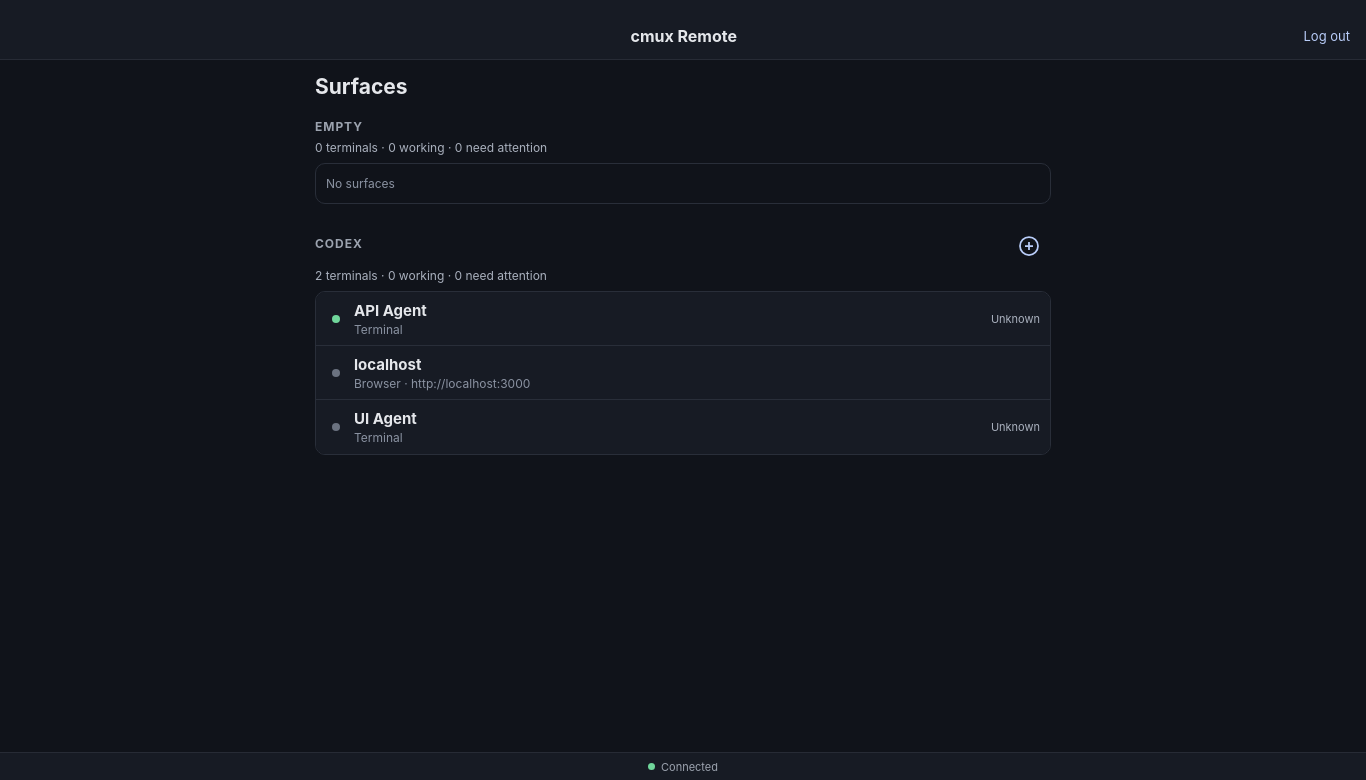
explains an outdated bridge and lets the user dismiss the notice without retrying creation
The width and height of the screenshot is (1366, 780).
Click the button named "New terminal in CODEX": {"x": 1029, "y": 246} x1=1007 y1=224 x2=1051 y2=268
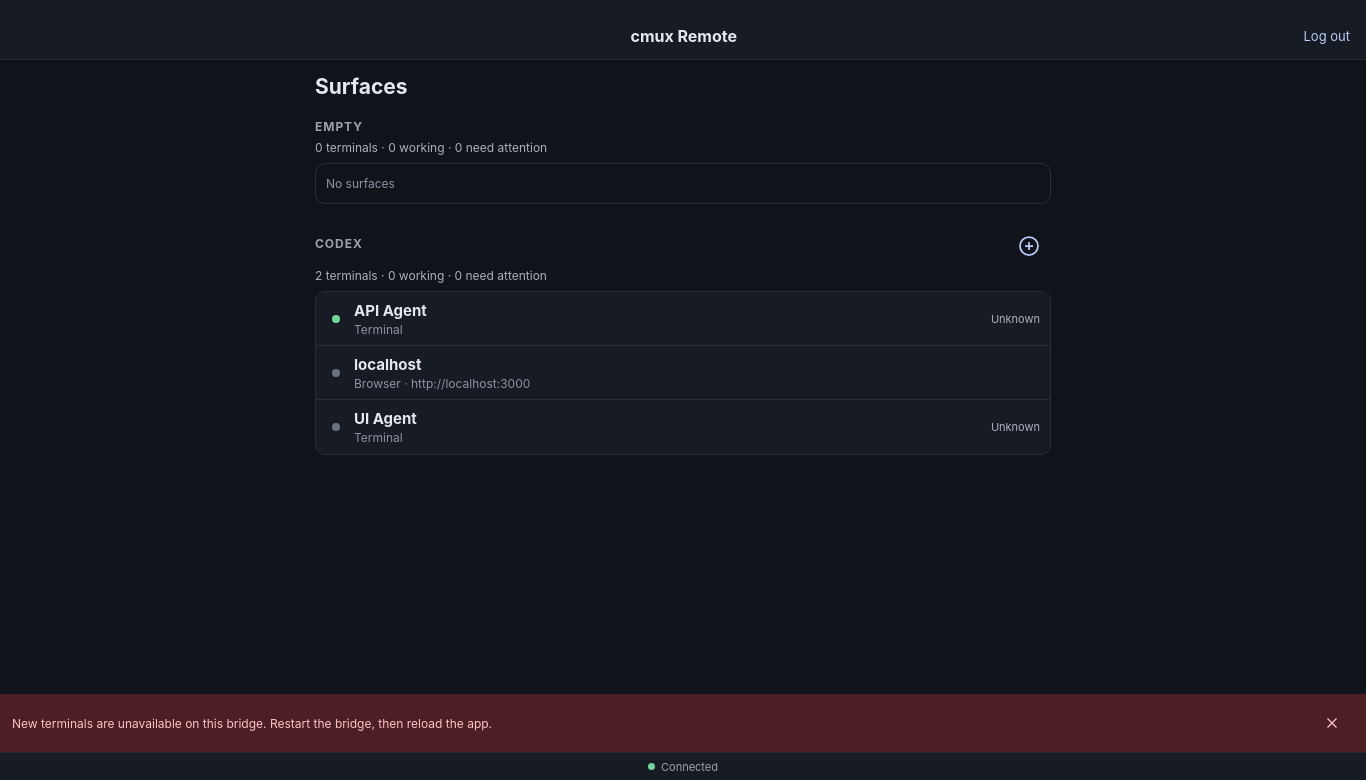
Expected: the message shows "Restart the bridge, then reload the app.", x1=12 y1=716 x2=492 y2=730
Click the button named "Dismiss notice": {"x": 1332, "y": 723} x1=1310 y1=701 x2=1354 y2=745
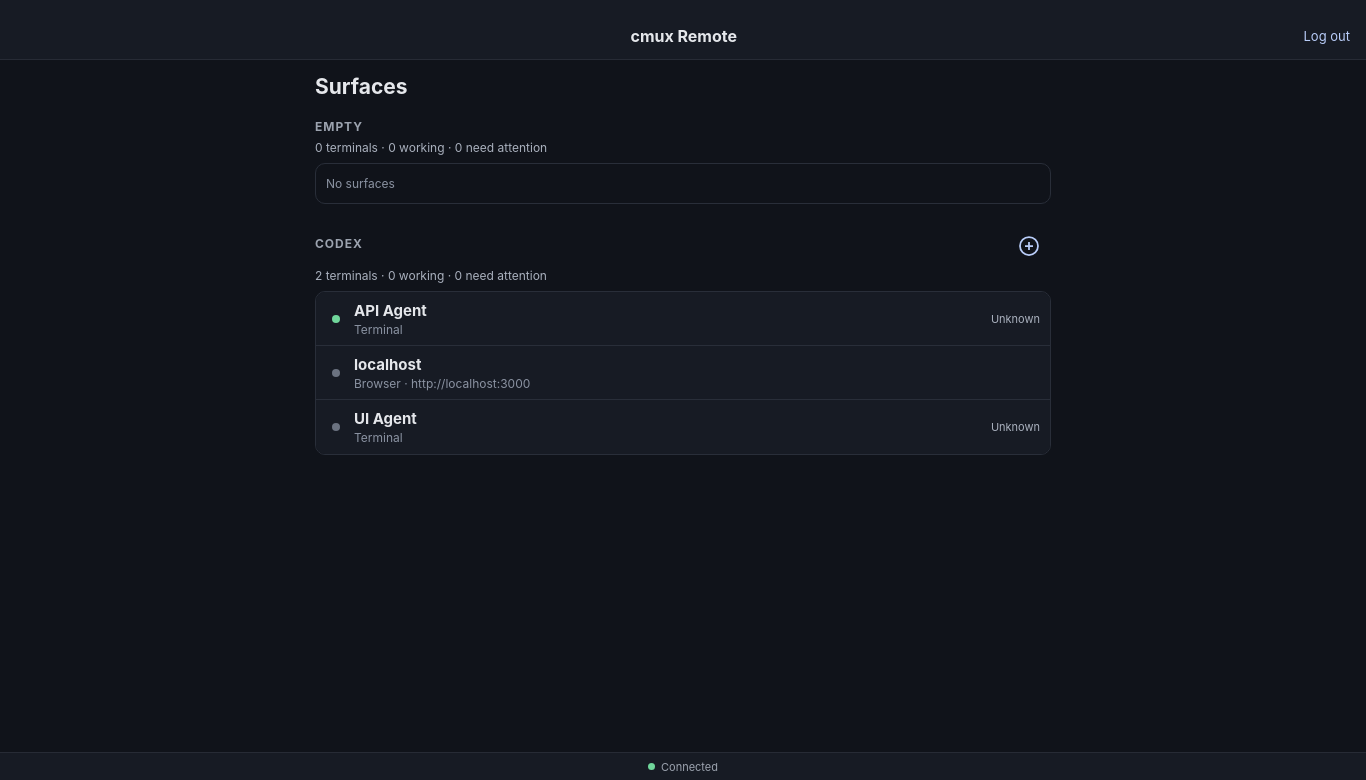
Expected: the message is gone
